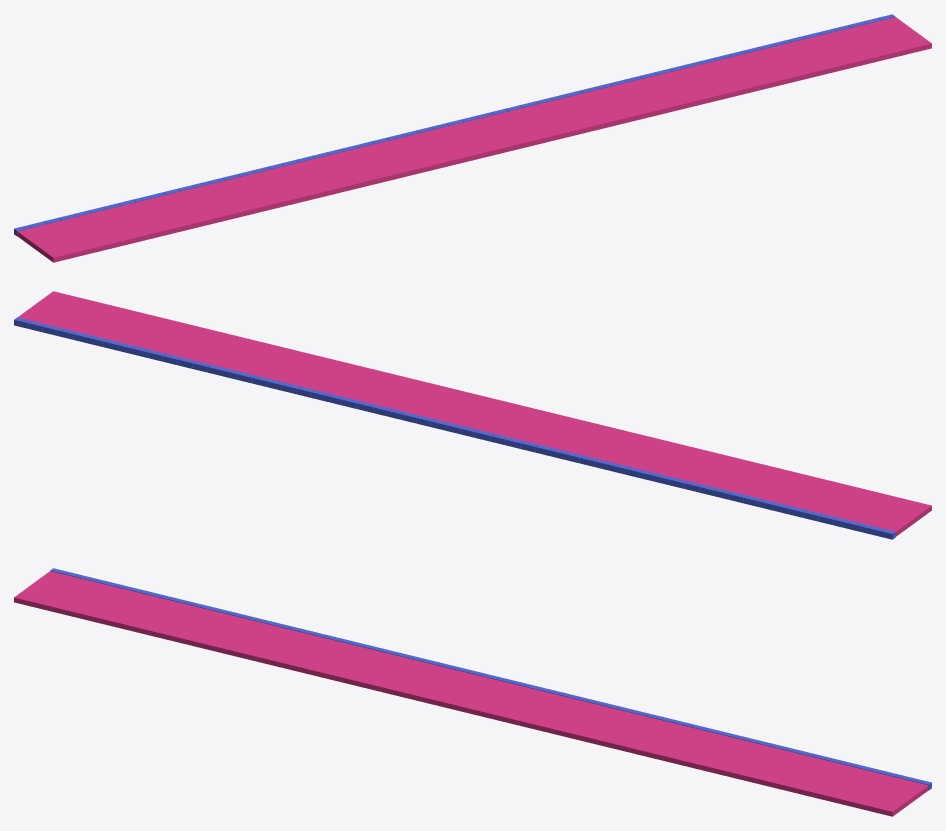
Rendered from sundaiikegaki4.fbx.
3 views of the same model, one above another, from view 1: azimuth 30°, elevation 25°; view 2: azimuth 150°, elevation 25°; view 3: azimuth 330°, elevation 25° (orthographic).
Visible parts, largest first — view 1: 立方体.017; view 2: 立方体.017; view 3: 立方体.017.
Boxes of the visible parts, x1,y1,x2,y2 form: 立方体.017: (14,14,931,262); 立方体.017: (14,291,931,539); 立方体.017: (14,568,931,816).
Bounding box in the file's own units: 4236 × 26.23 × 330.
